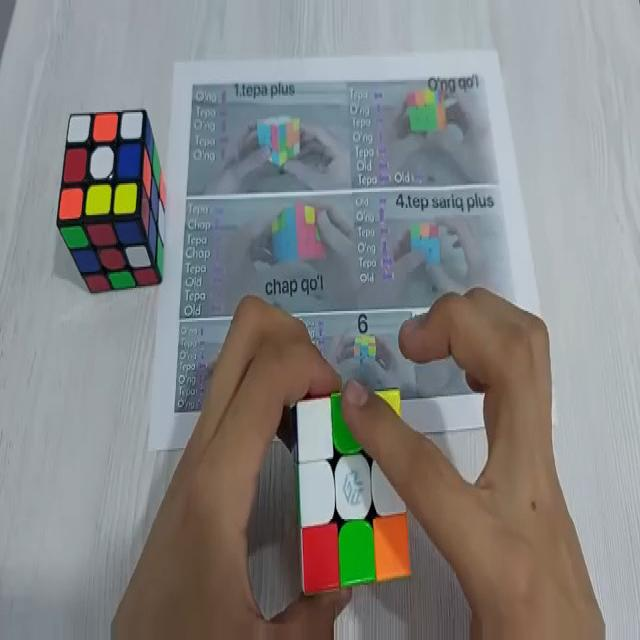Rub: (289, 383, 411, 588), (57, 110, 166, 292)
